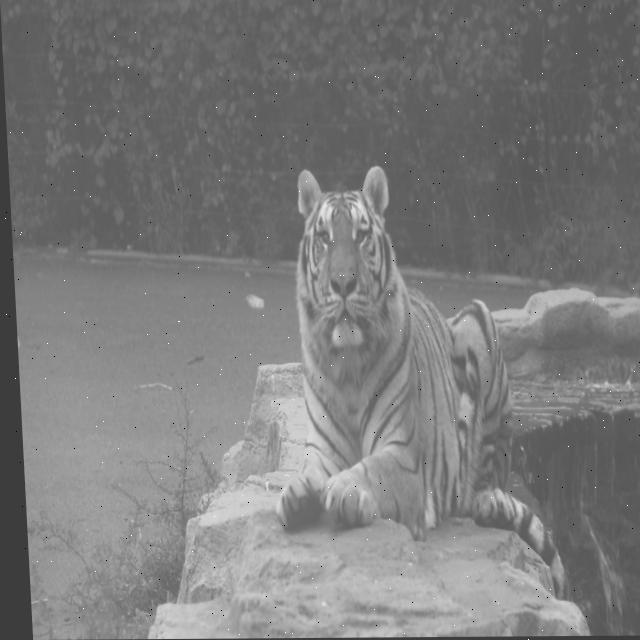Tiger: (257, 162, 570, 602)
